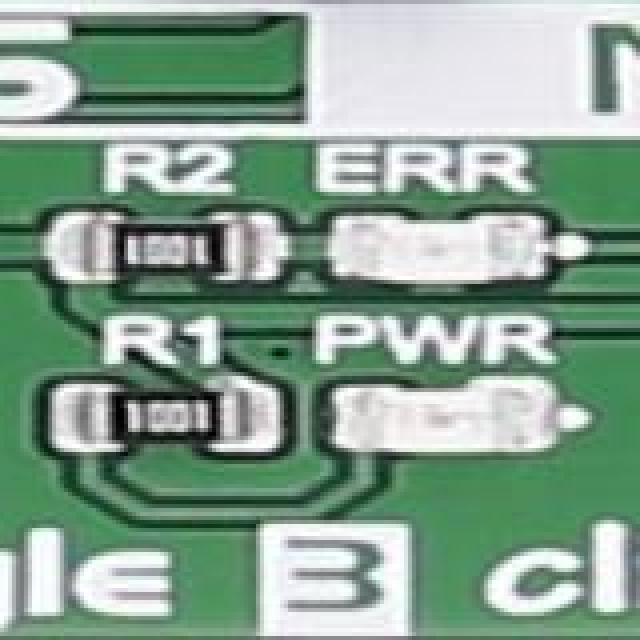LED: (352, 384, 562, 464), (356, 220, 546, 300)
resistor: (92, 388, 256, 458), (84, 224, 252, 288)
